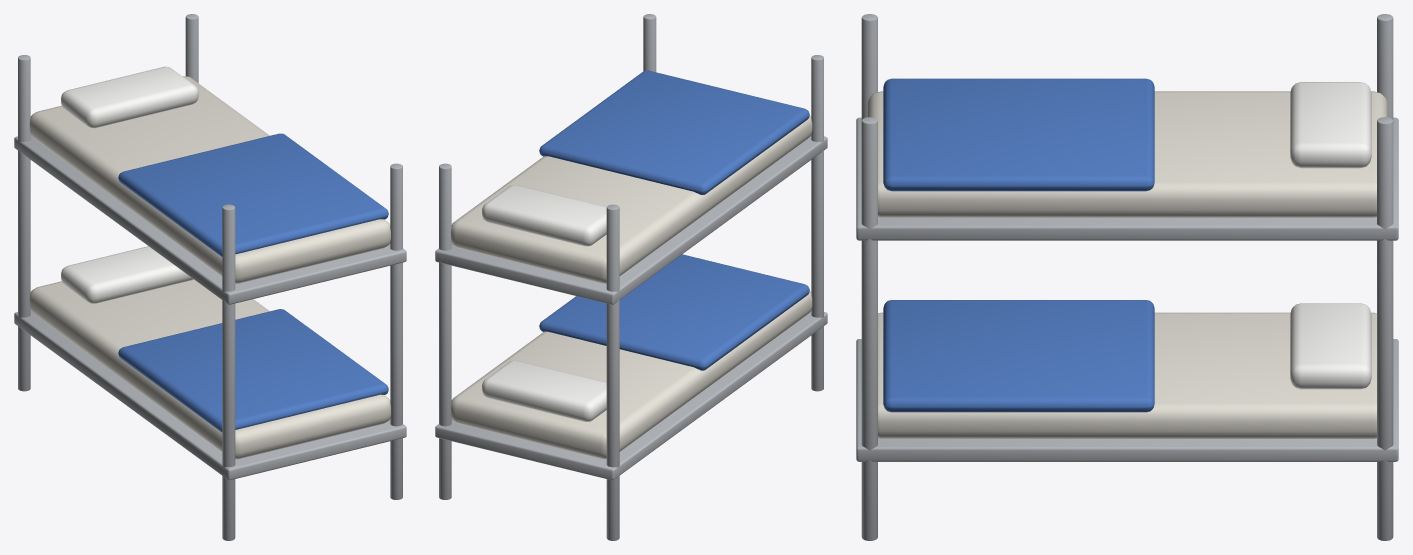
The model's file is bunk.glb.
3 views of the same model, side by side, from view 1: azimuth 30°, elevation 25°; view 2: azimuth 150°, elevation 25°; view 3: azimuth 270°, elevation 25° (orthographic). The views are drawn at different scales.
Parts seen in each view (by area): view 1: blanket1.25, mat1.25, blanket0.35, mat0.35, frame1.25, frame0.35, pil1.25, pil0.35, post-0.45-0.95, post-0.450.95, post0.45-0.95, post0.450.95; view 2: blanket1.25, mat1.25, mat0.35, blanket0.35, frame1.25, frame0.35, pil0.35, pil1.25, post-0.450.95, post-0.45-0.95, post0.450.95, post0.45-0.95; view 3: blanket1.25, mat1.25, blanket0.35, mat0.35, frame1.25, frame0.35, pil1.25, pil0.35, post0.45-0.95, post0.450.95, post-0.45-0.95, post-0.450.95.
Part boxes in pixels (x1,y1,x2,y2): blanket1.25: [118, 133, 388, 256]; mat1.25: [29, 76, 390, 283]; blanket0.35: [118, 309, 388, 432]; mat0.35: [29, 279, 390, 459]; frame1.25: [14, 135, 406, 304]; frame0.35: [14, 311, 406, 480]; pil1.25: [61, 66, 198, 128]; pil0.35: [61, 246, 193, 303]; post-0.45-0.95: [222, 204, 235, 540]; post-0.450.95: [18, 55, 30, 391]; post0.45-0.95: [390, 163, 402, 499]; post0.450.95: [185, 14, 198, 82]; blanket1.25: [539, 70, 809, 194]; mat1.25: [451, 115, 812, 283]; mat0.35: [451, 291, 812, 459]; blanket0.35: [539, 254, 809, 370]; frame1.25: [435, 135, 827, 304]; frame0.35: [435, 311, 827, 480]; pil0.35: [482, 360, 606, 421]; pil1.25: [482, 185, 606, 246]; post-0.450.95: [606, 204, 619, 540]; post-0.45-0.95: [811, 55, 823, 391]; post0.450.95: [439, 163, 451, 499]; post0.45-0.95: [643, 14, 656, 72]; blanket1.25: [883, 78, 1154, 191]; mat1.25: [867, 91, 1387, 217]; blanket0.35: [883, 300, 1154, 412]; mat0.35: [878, 312, 1376, 438]; frame1.25: [856, 117, 1398, 240]; frame0.35: [856, 339, 1398, 461]; pil1.25: [1290, 82, 1371, 168]; pil0.35: [1290, 303, 1371, 389]; post0.45-0.95: [861, 117, 877, 540]; post0.450.95: [1377, 117, 1393, 540]; post-0.45-0.95: [861, 14, 877, 120]; post-0.450.95: [1377, 14, 1393, 120].
Size of the model in its own units: 0.96 by 1.7 by 2.
